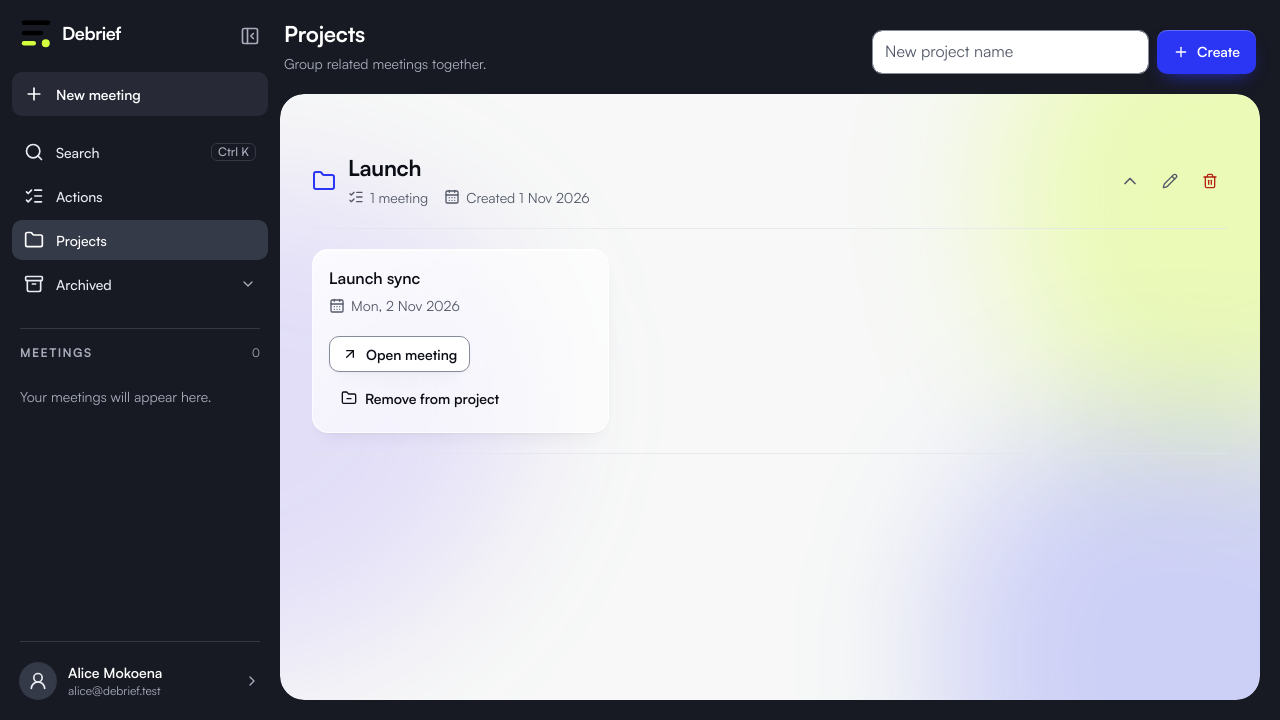
Test: removes a meeting from its project and updates the count
The width and height of the screenshot is (1280, 720).
Expected: the heading "Launch sync" is shown, x1=329 y1=268 x2=420 y2=288
Step 1. Click the button "Remove from project" → (420, 398), box x1=329 y1=380 x2=511 y2=416
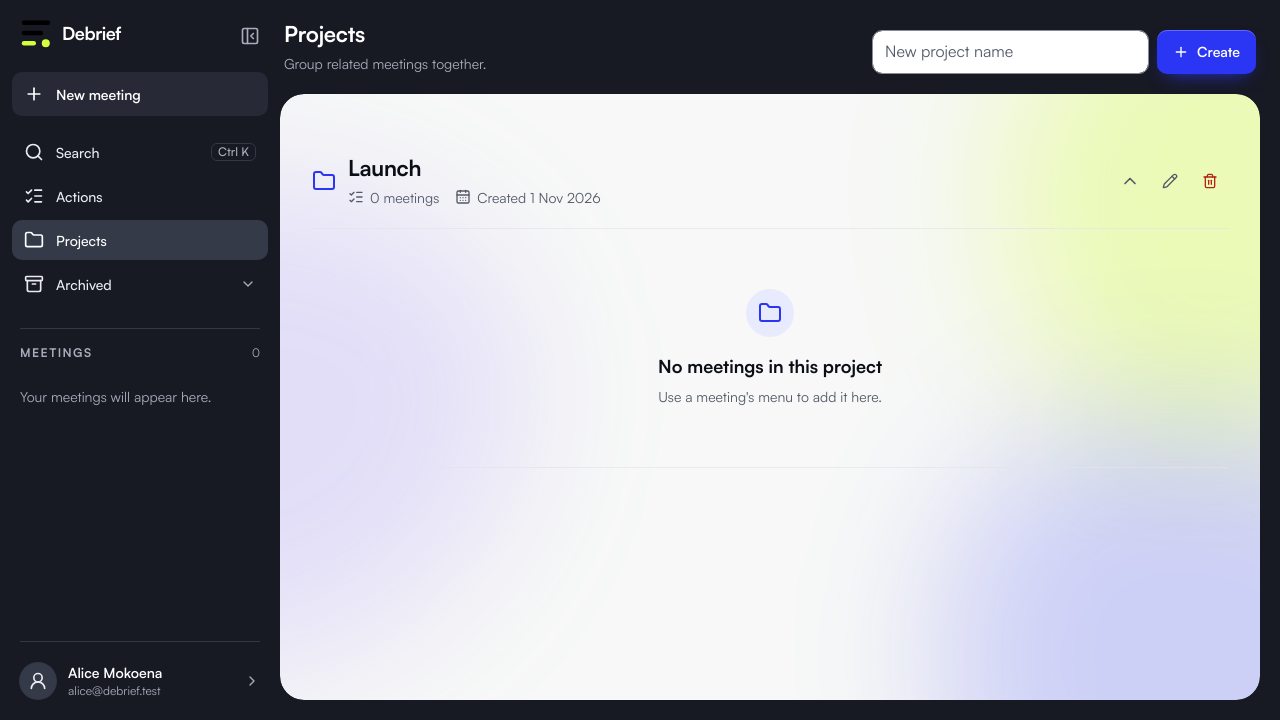
Now the heading "No meetings in this project" is shown, box x1=658 y1=353 x2=882 y2=380
Now the element "Launch" shows "0 meetings", box x1=312 y1=154 x2=1140 y2=208
